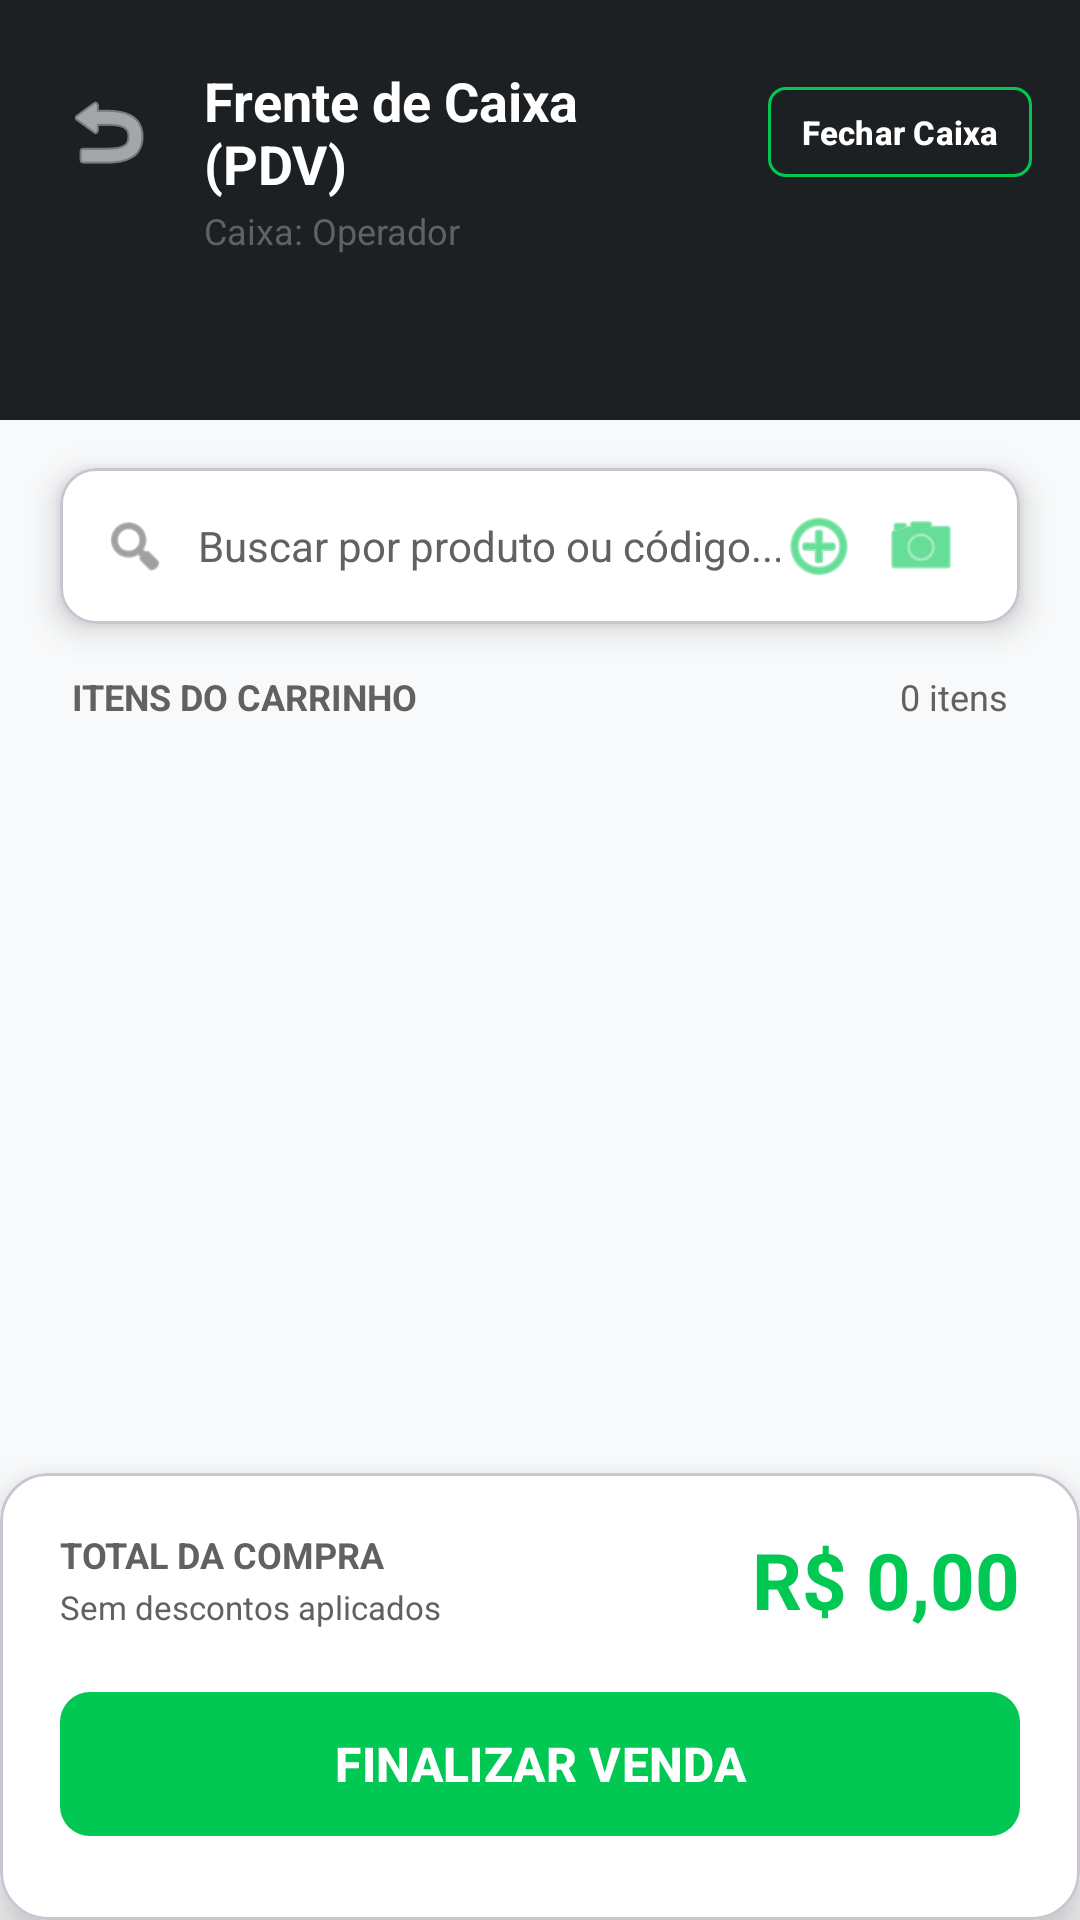

Icon click points for this 1080 × 1920 phone screenshot, format point (x, y):
Abrir Catálogo de Produtos: point (819, 546)
Escanear Código de Barras: point (921, 545)
Voltar: point (109, 132)
